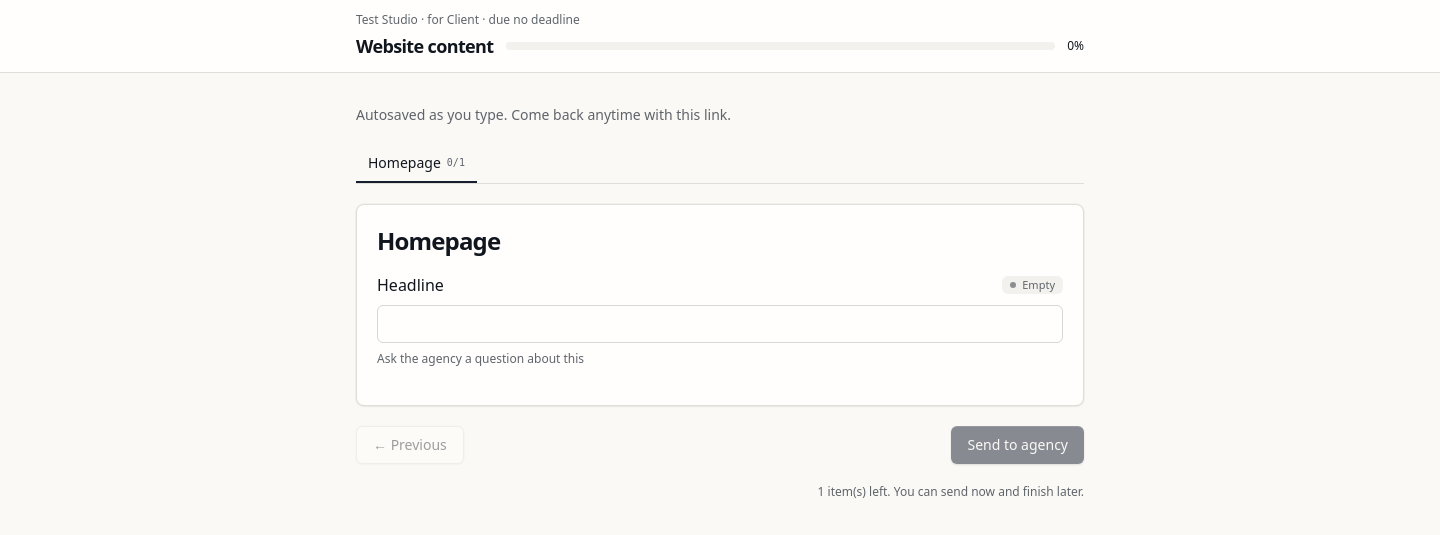
Scenario: Portal text autosave › does not advance progress when saving fails
In the field labelled "Headline": [720, 324] box [377,305,1063,343], type "Unsaved text"
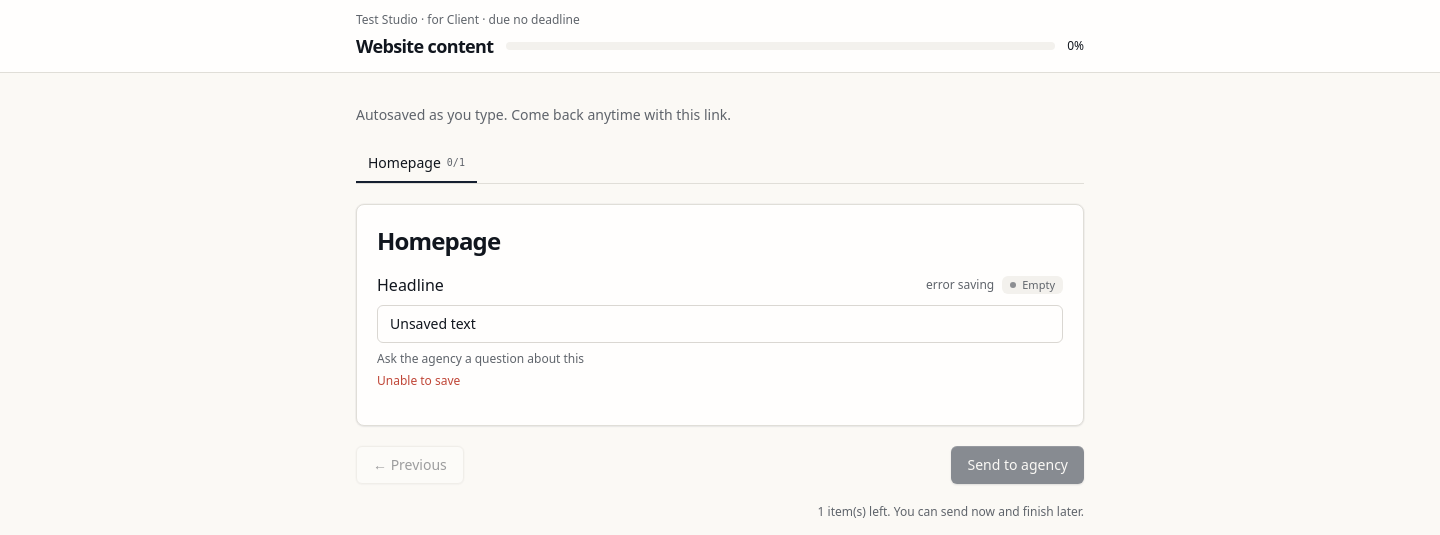
Expected: the text "0%" is shown, [1067,38,1084,54]
Now the text "error saving" is shown, box [926,276,994,293]
